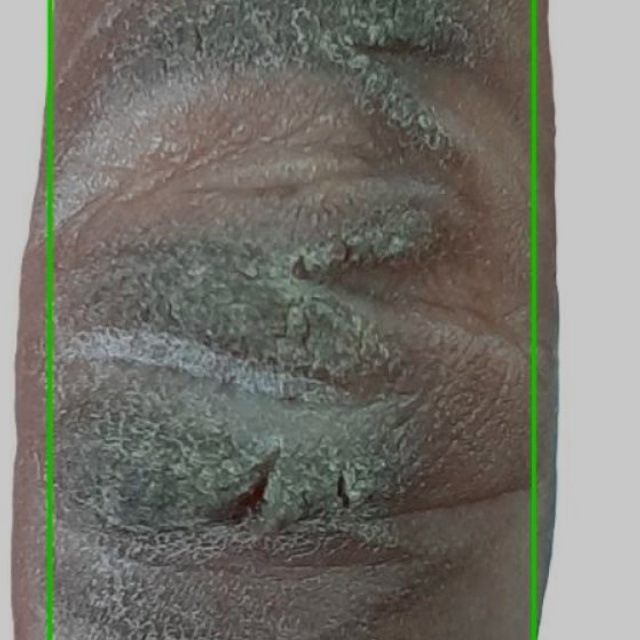Contact Dermatitis: (533, 0, 639, 639)
